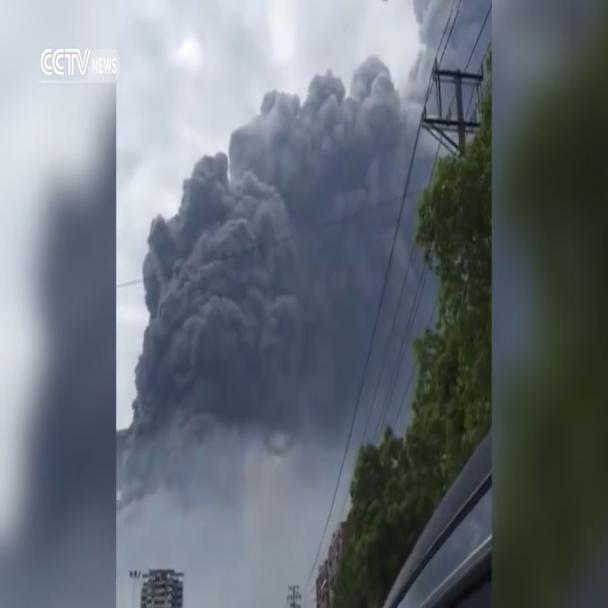smoke: (116, 61, 416, 544), (405, 0, 490, 53)
